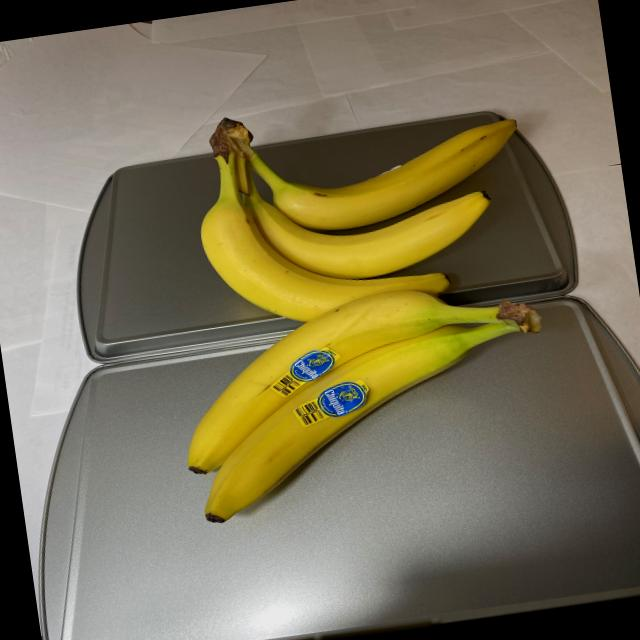banana: (161, 269, 575, 532), (185, 76, 546, 330)
